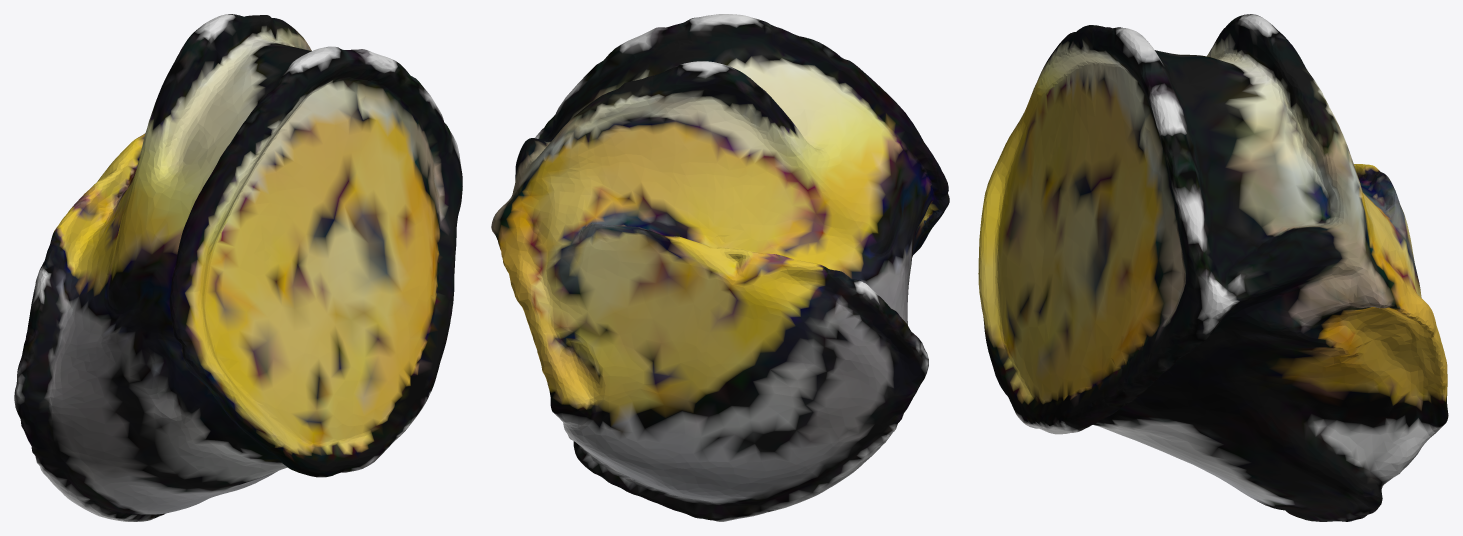
File: stew_fish.glb
3 renders of one model, left to right at view 1: azimuth 30°, elevation 25°; view 2: azimuth 150°, elevation 25°; view 3: azimuth 270°, elevation 25°, orthographic. The views are drawn at different scales.
Visible parts, largest first — view 1: geometry_0; view 2: geometry_0; view 3: geometry_0.
Boxes of the visible parts, box(x1,y1,x2,y2) form: geometry_0: box(14, 14, 462, 521); geometry_0: box(491, 14, 949, 521); geometry_0: box(978, 14, 1448, 521).
Bounding box in the file's own units: 0.5312 × 0.5645 × 0.4676.
